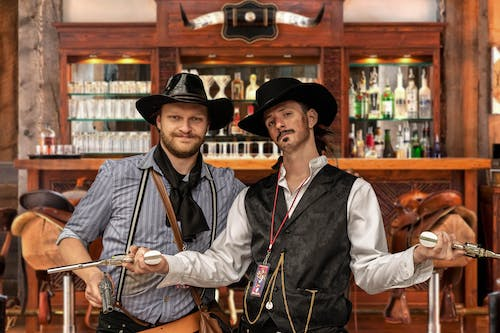alcohol: (417, 65, 433, 119), (366, 65, 380, 119), (404, 65, 417, 119), (394, 64, 404, 119), (227, 105, 244, 136), (40, 123, 56, 155), (380, 80, 393, 119), (356, 70, 366, 118), (244, 74, 262, 100), (384, 128, 396, 159), (365, 133, 378, 159), (412, 130, 424, 158), (402, 127, 413, 157), (348, 77, 356, 118), (348, 123, 357, 158), (231, 76, 244, 100), (422, 128, 432, 158), (374, 127, 383, 159), (396, 133, 407, 158), (357, 130, 365, 158), (433, 142, 444, 158)
gun: (45, 247, 163, 276), (420, 229, 500, 261)
